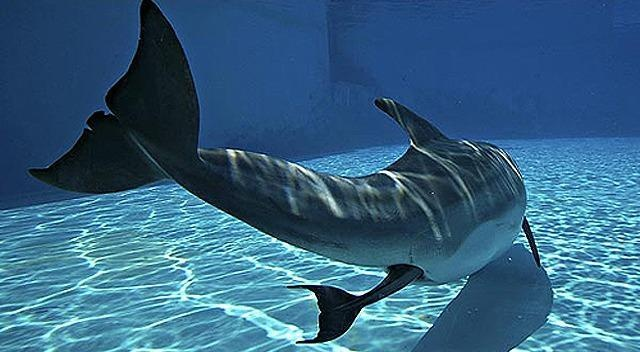fish: (32, 1, 545, 345)
